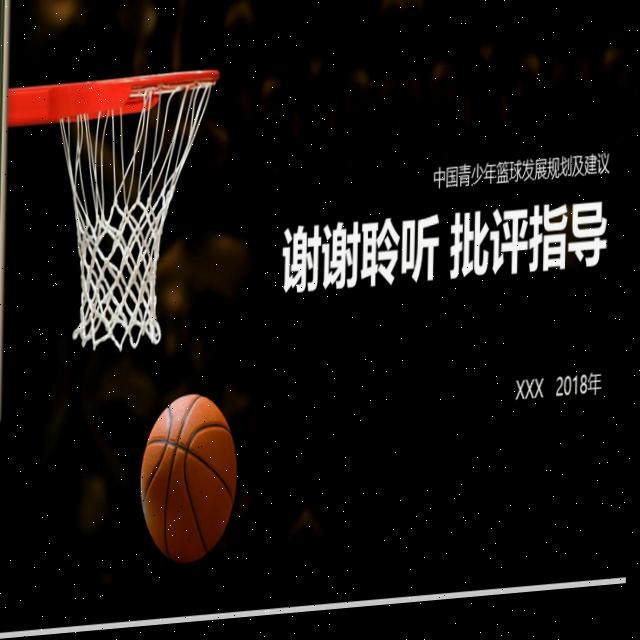basketball: (141, 390, 238, 568)
hoop: (48, 66, 221, 357)
